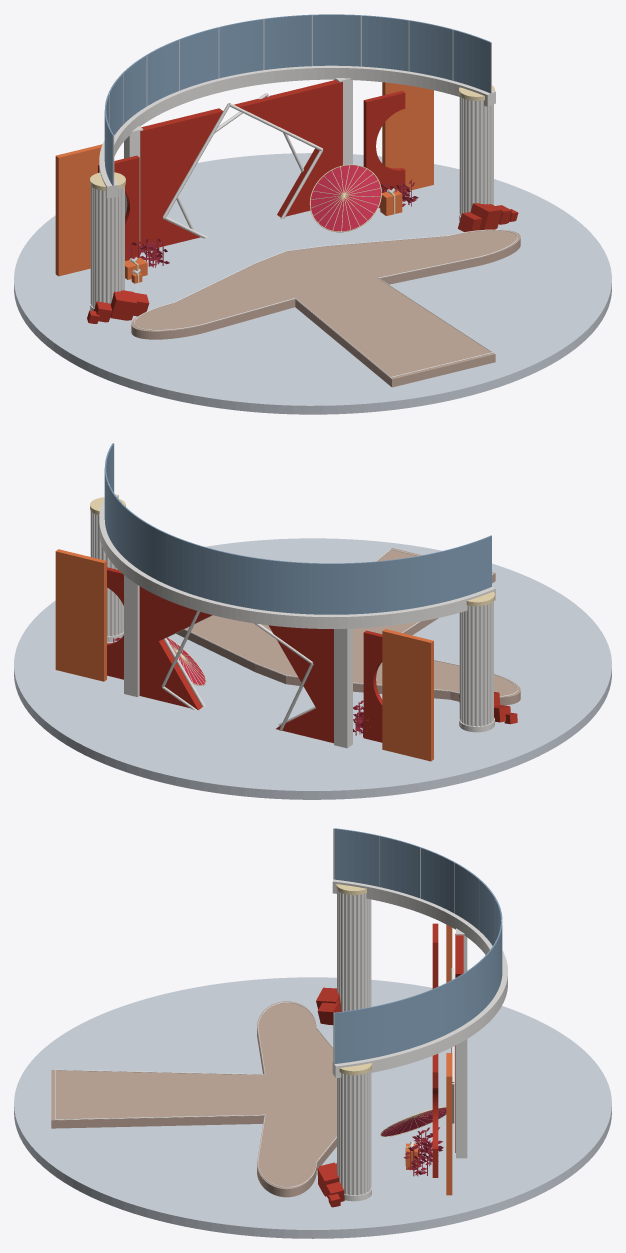
3 renders of one model, top to bottom at view 1: azimuth 30°, elevation 25°; view 2: azimuth 150°, elevation 25°; view 3: azimuth 270°, elevation 25°, orthographic.
Visible parts, largest first — view 1: GROUND_finite_work_extent, STAGE_shared_rounded_lobes, GLASS_finite_arc, WALL_red_with_opening, BAND_finite_arc, L_rear_ORANGE, R_rear_ORANGE, UMBRELLA_paper, R_front_NOTCHED, L_front_NOTCHED, L_COLUMN_core, R_COLUMN_core (+4 smaller); view 2: GROUND_finite_work_extent, GLASS_finite_arc, WALL_red_with_opening, STAGE_shared_rounded_lobes, L_rear_ORANGE, R_rear_ORANGE, BAND_finite_arc, WALL_white_reveal, L_front_NOTCHED, WALL_white_reveal.001, L_COLUMN_core, R_front_NOTCHED (+2 smaller); view 3: GROUND_finite_work_extent, STAGE_shared_rounded_lobes, GLASS_finite_arc, BAND_finite_arc, R_COLUMN_core, L_COLUMN_core, WALL_white_reveal.001, R_rear_ORANGE, R_front_NOTCHED, UMBRELLA_paper.
Boxes of the visible parts, <box> form: GROUND_finite_work_extent: <box>14,153,611,414</box>; STAGE_shared_rounded_lobes: <box>131,229,520,387</box>; GLASS_finite_arc: <box>104,14,491,185</box>; WALL_red_with_opening: <box>140,80,342,250</box>; BAND_finite_arc: <box>99,65,495,198</box>; L_rear_ORANGE: <box>55,144,102,276</box>; R_rear_ORANGE: <box>382,82,433,190</box>; UMBRELLA_paper: <box>310,165,380,231</box>; R_front_NOTCHED: <box>363,91,405,204</box>; L_front_NOTCHED: <box>98,155,139,260</box>; L_COLUMN_core: <box>94,189,120,307</box>; R_COLUMN_core: <box>464,99,489,212</box>; GROUND_finite_work_extent: <box>14,538,611,799</box>; GLASS_finite_arc: <box>104,443,491,614</box>; WALL_red_with_opening: <box>139,586,333,743</box>; STAGE_shared_rounded_lobes: <box>176,548,520,705</box>; L_rear_ORANGE: <box>382,629,433,761</box>; R_rear_ORANGE: <box>55,549,106,681</box>; BAND_finite_arc: <box>99,494,495,628</box>; WALL_white_reveal: <box>334,628,352,748</box>; L_front_NOTCHED: <box>363,630,382,742</box>; WALL_white_reveal.001: <box>124,575,139,697</box>; L_COLUMN_core: <box>464,604,489,725</box>; R_front_NOTCHED: <box>107,567,123,679</box>; GROUND_finite_work_extent: <box>14,977,611,1238</box>; STAGE_shared_rounded_lobes: <box>51,1001,336,1197</box>; GLASS_finite_arc: <box>334,828,502,1063</box>; BAND_finite_arc: <box>332,879,507,1078</box>; R_COLUMN_core: <box>341,1073,367,1194</box>; L_COLUMN_core: <box>341,893,367,1011</box>; WALL_white_reveal.001: <box>456,1039,467,1158</box>; R_rear_ORANGE: <box>446,1053,452,1195</box>; R_front_NOTCHED: <box>432,1054,438,1177</box>; UMBRELLA_paper: <box>381,1107,446,1136</box>.
Size of what is drawn, in the model's own units: 16 by 6.55 by 16.
